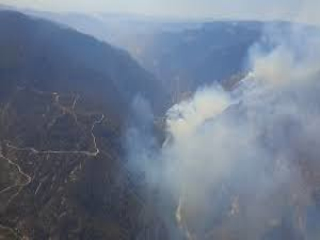smoke: (145, 81, 246, 152)
